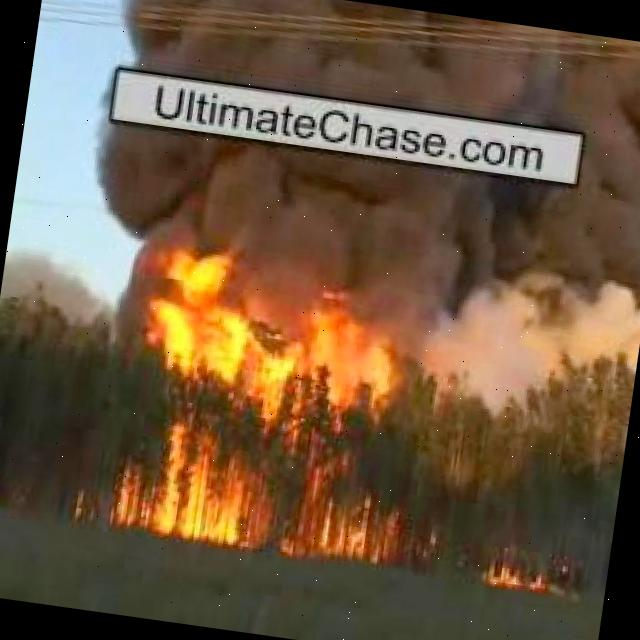fire: (108, 246, 441, 568), (466, 556, 562, 595)
